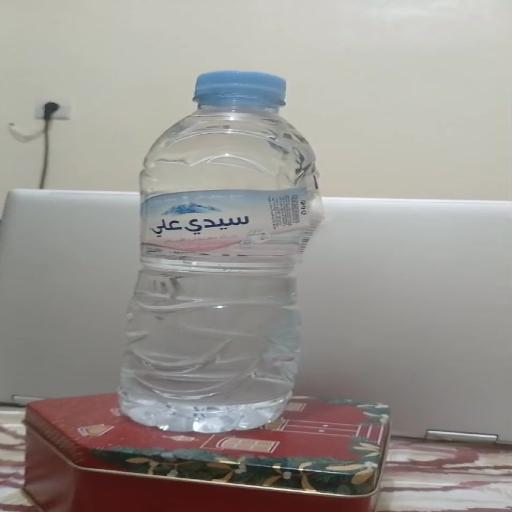bouteille conformite: (105, 58, 324, 426)
